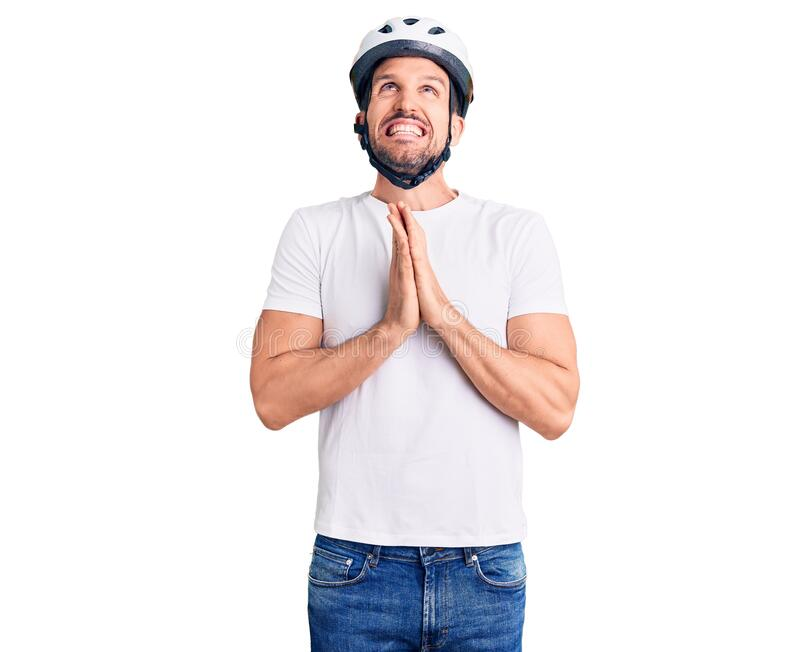helmet: (348, 14, 476, 190)
